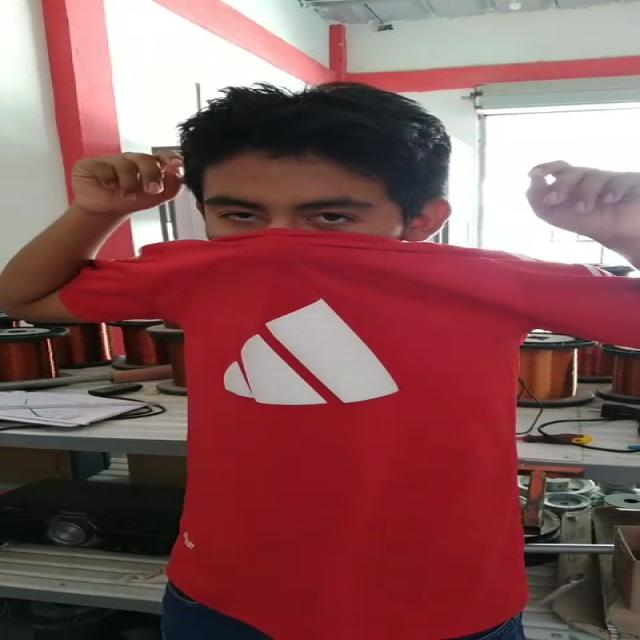8_ropa_rostro: (154, 223, 482, 309)
